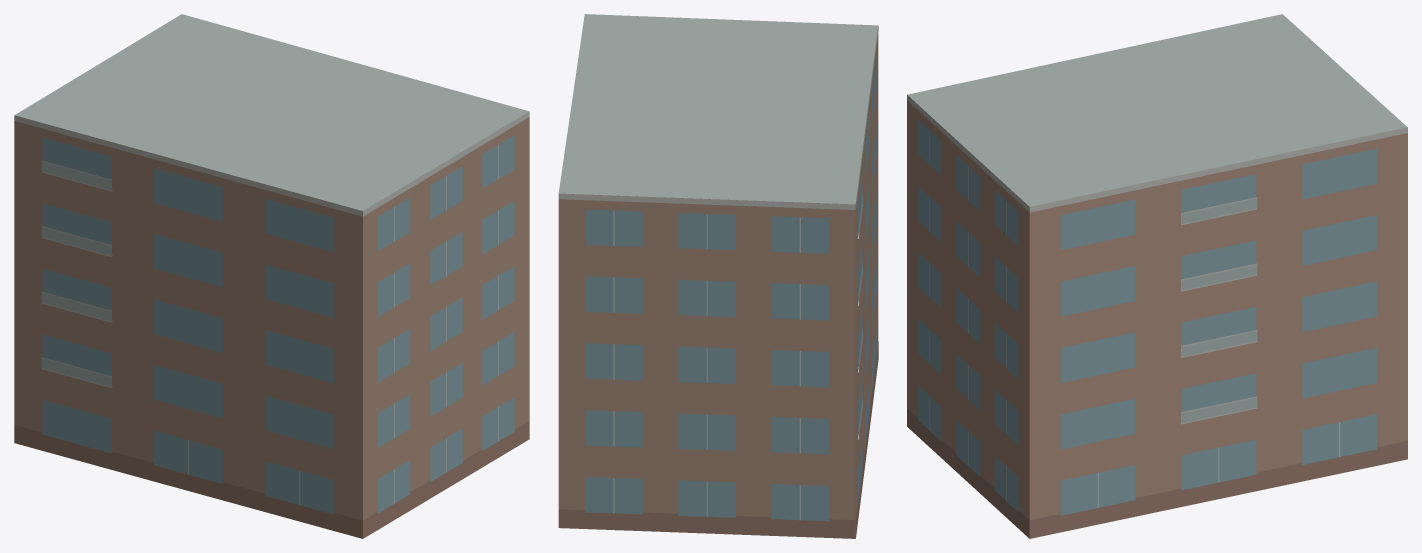
The model's file is survey-upis-32780508.glb.
3 renders of one model, left to right at view 1: azimuth 30°, elevation 25°; view 2: azimuth 150°, elevation 25°; view 3: azimuth 270°, elevation 25°, orthographic. The views are drawn at different scales.
Parts seen in each view (by area): view 1: survey-upis-32780508.tmp; view 2: survey-upis-32780508.tmp; view 3: survey-upis-32780508.tmp.
Boxes of the visible parts, x1,y1,x2,y2 form: survey-upis-32780508.tmp: (14,14,529,538); survey-upis-32780508.tmp: (558,14,878,538); survey-upis-32780508.tmp: (907,14,1407,538).
Size of the model in its own units: 17.96 by 14.4 by 19.7.
